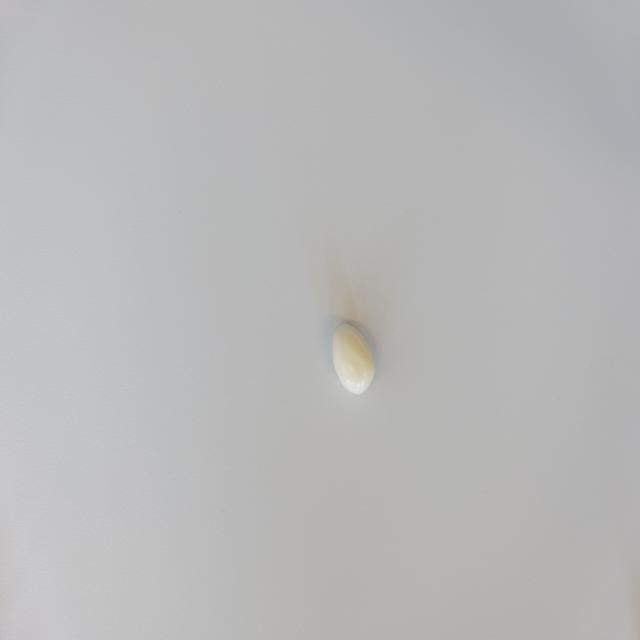Jelly_White: (332, 323, 376, 395)
